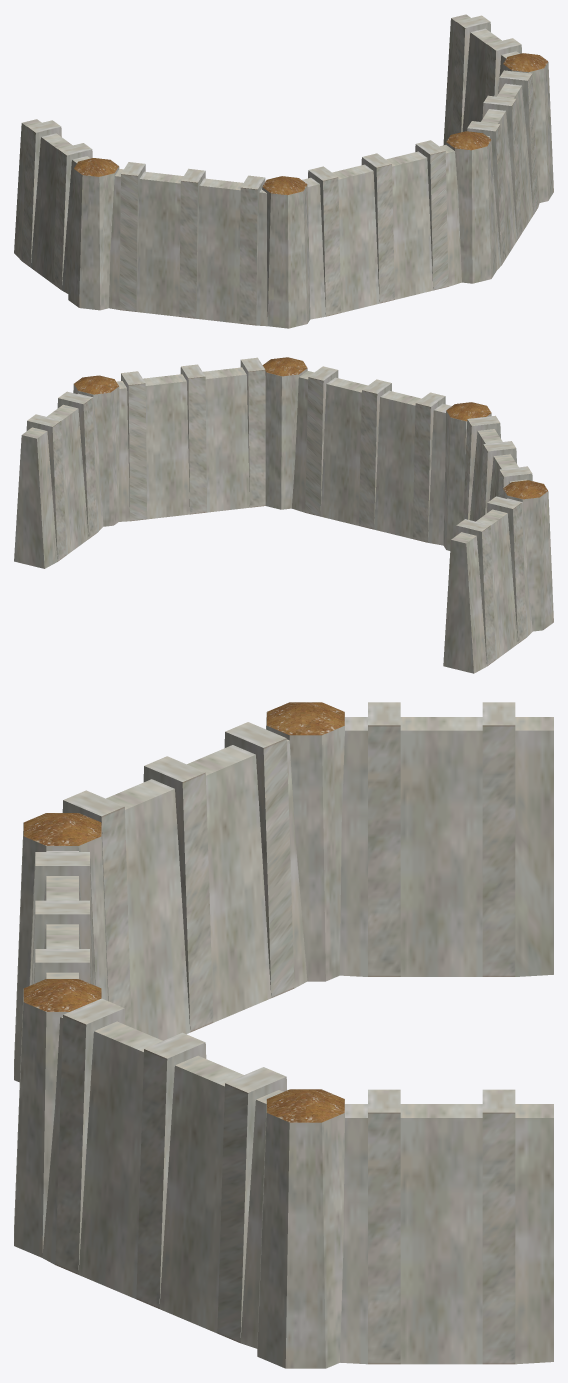
File: poi_all_rebl_corral_half_32x32_s01_l1.fbx
3 views of the same model, one above another, from view 1: azimuth 30°, elevation 25°; view 2: azimuth 150°, elevation 25°; view 3: azimuth 270°, elevation 25° (orthographic). The views are drawn at different scales.
Visible parts, largest first — view 1: mesh_node; view 2: mesh_node; view 3: mesh_node.
Boxes of the visible parts, x1,y1,x2,y2 form: mesh_node: [14, 14, 553, 328]; mesh_node: [14, 357, 553, 673]; mesh_node: [14, 702, 553, 1368].
Bounding box in the file's own units: 23.23 × 6.5 × 12.38.
1 material, 1 textured.
